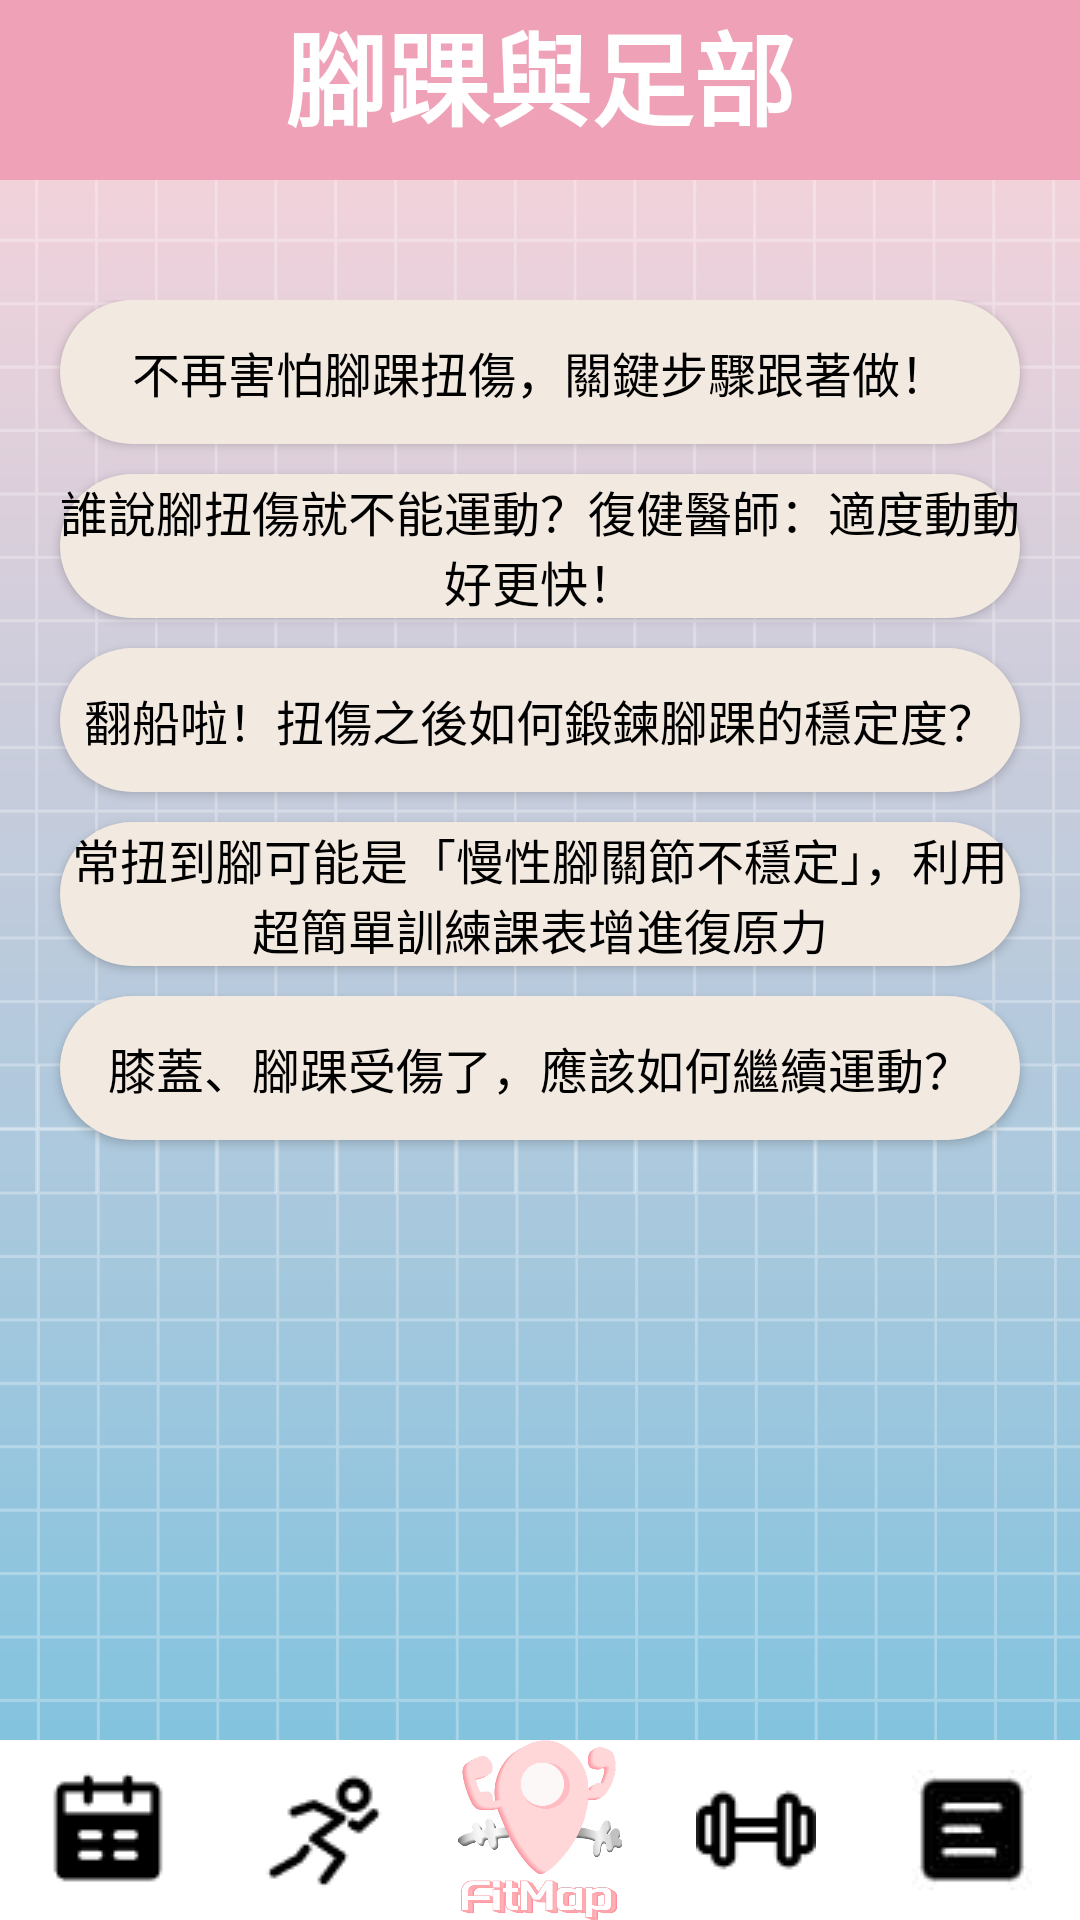

Where to tap for icons on this 1080x1920 app screen, as (x,y):
article: (972,1830)
reservation: (108,1828)
run: (324,1830)
